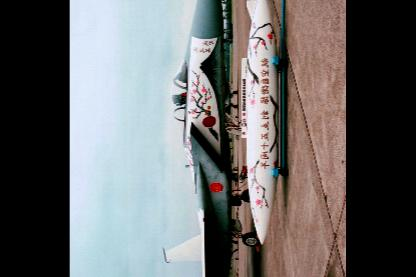F117: (155, 0, 261, 276)
